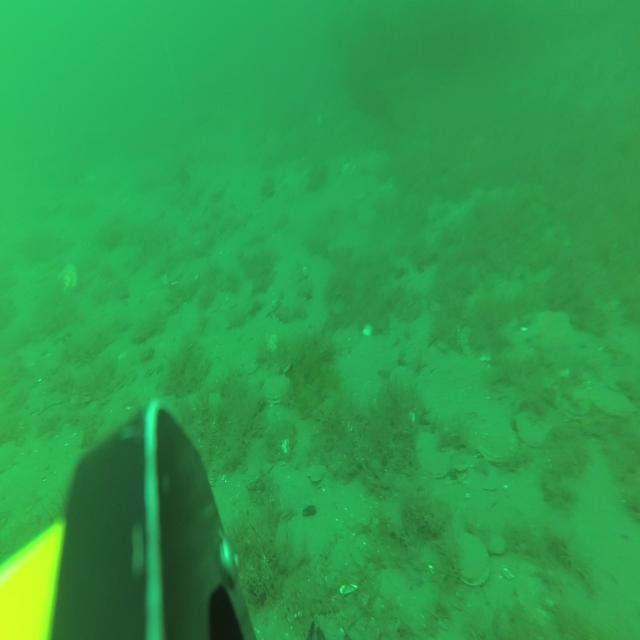scallop: (516, 560, 559, 630), (451, 530, 489, 586), (478, 418, 516, 462), (592, 380, 632, 419), (419, 442, 454, 478), (558, 387, 592, 420), (517, 411, 548, 447), (264, 377, 290, 407), (58, 262, 78, 296), (488, 532, 507, 556), (307, 462, 326, 484), (456, 460, 470, 473)
starfish: (526, 308, 572, 361)
